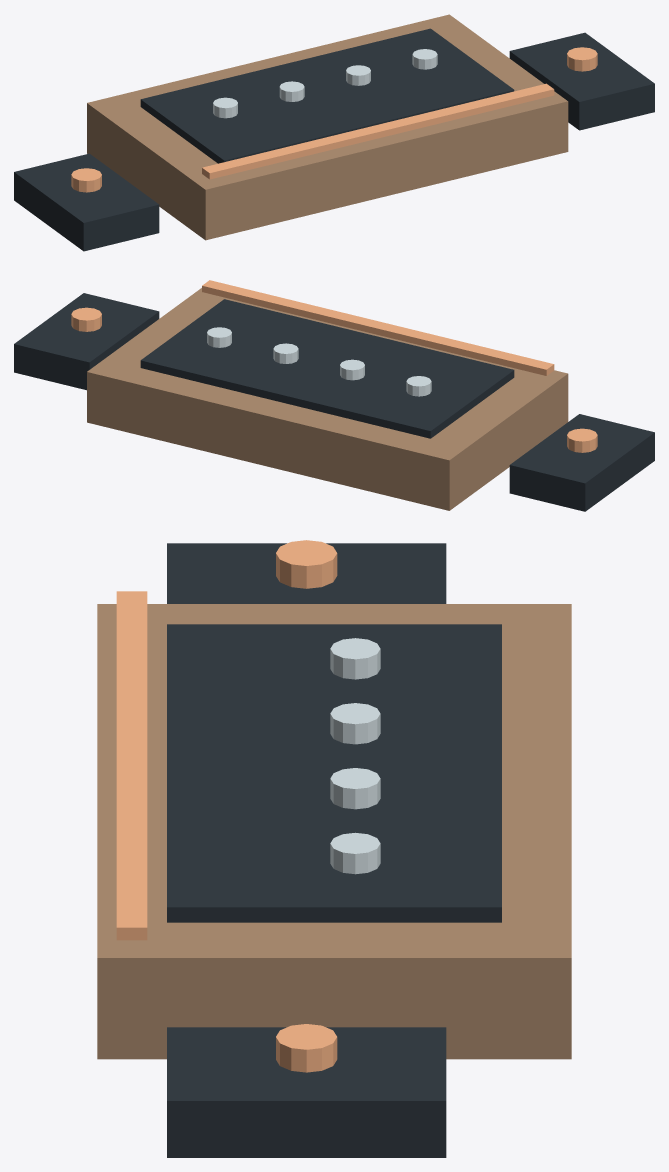
The model's file is early-console-lod1.glb.
3 renders of one model, top to bottom at view 1: azimuth 30°, elevation 25°; view 2: azimuth 150°, elevation 25°; view 3: azimuth 270°, elevation 25°, orthographic. The views are drawn at different scales.
Parts seen in each view (by area): view 1: console, top_panel, paddle_0, paddle_1, stripe, paddle_knob_1, paddle_knob_0, knob_3, knob_1, knob_2, knob_0; view 2: console, top_panel, paddle_0, paddle_1, stripe, paddle_knob_0, paddle_knob_1, knob_0, knob_2, knob_3, knob_1; view 3: console, top_panel, paddle_1, paddle_0, stripe, paddle_knob_0, paddle_knob_1, knob_0, knob_1, knob_2, knob_3.
Part boxes in pixels (x1,y1,x2,y2): console: (87, 14, 568, 240); top_panel: (140, 28, 514, 163); paddle_0: (14, 153, 159, 251); paddle_1: (509, 32, 654, 130); stripe: (202, 83, 554, 179); paddle_knob_1: (567, 47, 597, 71); paddle_knob_0: (71, 168, 101, 192); knob_3: (412, 49, 437, 69); knob_1: (279, 81, 304, 101); knob_2: (346, 65, 370, 85); knob_0: (213, 97, 237, 118); console: (87, 288, 568, 510); top_panel: (140, 299, 514, 438); paddle_0: (509, 414, 654, 511); paddle_1: (14, 293, 159, 390); stripe: (202, 280, 554, 375); paddle_knob_0: (567, 428, 597, 452); paddle_knob_1: (71, 307, 101, 331); knob_0: (406, 376, 431, 396); knob_2: (273, 343, 298, 363); knob_3: (207, 327, 231, 347); knob_1: (340, 359, 364, 380); console: (97, 604, 571, 1059); top_panel: (167, 624, 501, 922); paddle_1: (167, 1027, 446, 1157); paddle_0: (167, 543, 446, 603); stripe: (116, 591, 147, 940); paddle_knob_0: (276, 540, 337, 588); paddle_knob_1: (276, 1024, 337, 1072); knob_0: (330, 638, 380, 679); knob_1: (330, 703, 380, 744); knob_2: (330, 768, 380, 809); knob_3: (330, 832, 380, 874).
Size of the model in its own units: 9.45 by 1.1 by 3.4.
